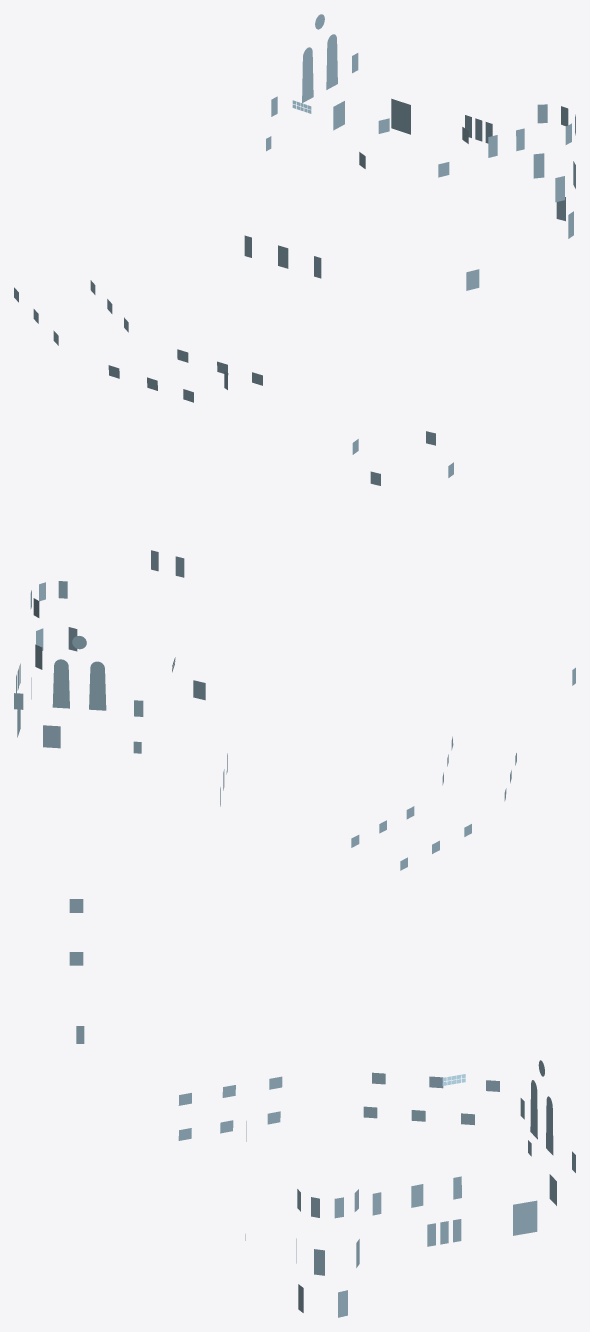
Rendered from FairyTale4.gltf.
The picture shows the model from 3 angles, top to bottom: view 1: azimuth 30°, elevation 25°; view 2: azimuth 150°, elevation 25°; view 3: azimuth 270°, elevation 25°; orthographic projection. The views are drawn at different scales.
Visible parts, largest first — view 1: CastleSM_Glass; view 2: CastleSM_Glass; view 3: CastleSM_Glass.
Boxes of the visible parts, x1,y1,x2,y2 form: CastleSM_Glass: [14, 14, 575, 402]; CastleSM_Glass: [14, 431, 575, 870]; CastleSM_Glass: [69, 899, 575, 1317].
Size of the model in its own units: 35.99 by 17.83 by 33.87.
